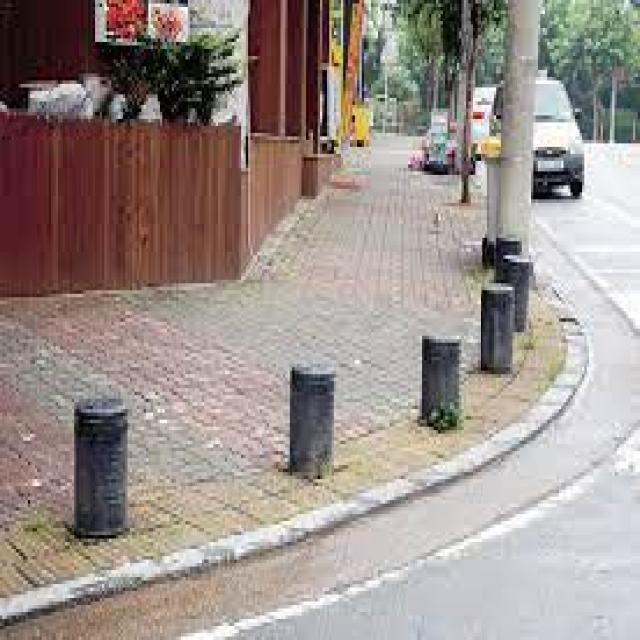bollard: (66, 377, 135, 543), (286, 357, 340, 486), (418, 327, 466, 437), (477, 277, 516, 381), (500, 254, 535, 339), (495, 224, 524, 302)
